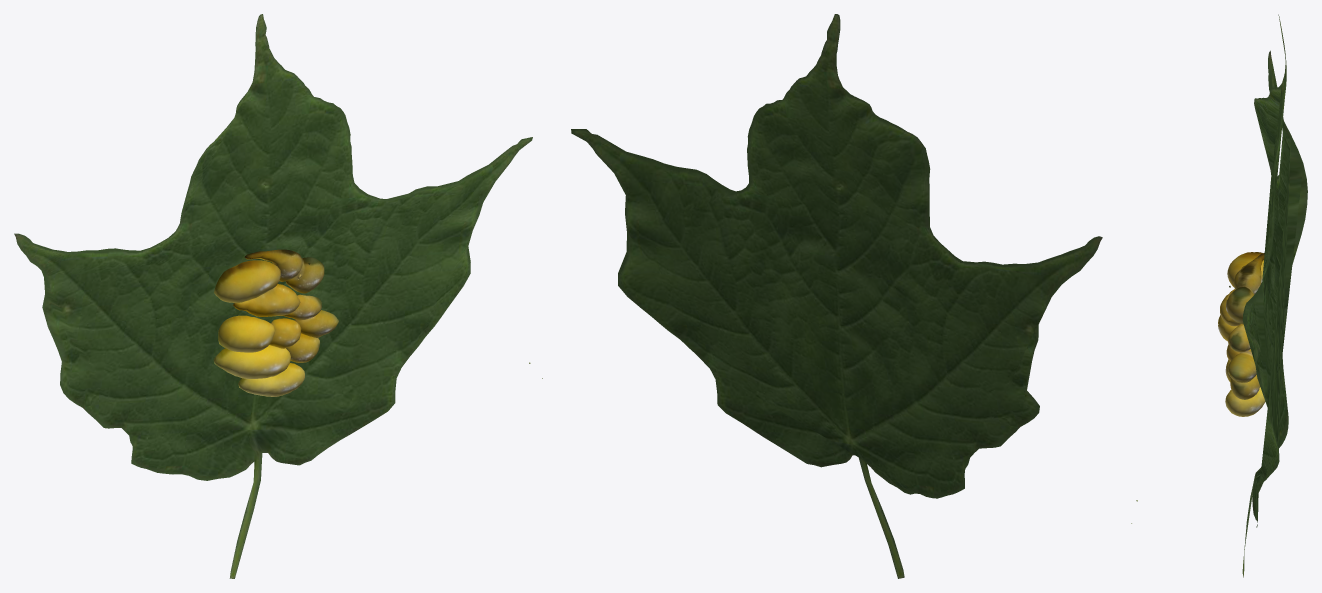
File: Egg.FBX
3 renders of one model, left to right at view 1: azimuth 30°, elevation 25°; view 2: azimuth 150°, elevation 25°; view 3: azimuth 270°, elevation 25°, orthographic. The views are drawn at different scales.
Visible parts, largest first — view 1: level, default; view 2: level; view 3: level, default.
Boxes of the visible parts, box(x1,y1,x2,y2) form: level: box(14, 14, 532, 578); default: box(213, 249, 542, 396); level: box(571, 14, 1102, 578); level: box(1242, 14, 1307, 577); default: box(1131, 252, 1265, 523).
Size of the model in its own units: 23.63 by 23.83 by 6.5.
Materials: 2 (2 with a texture image).
